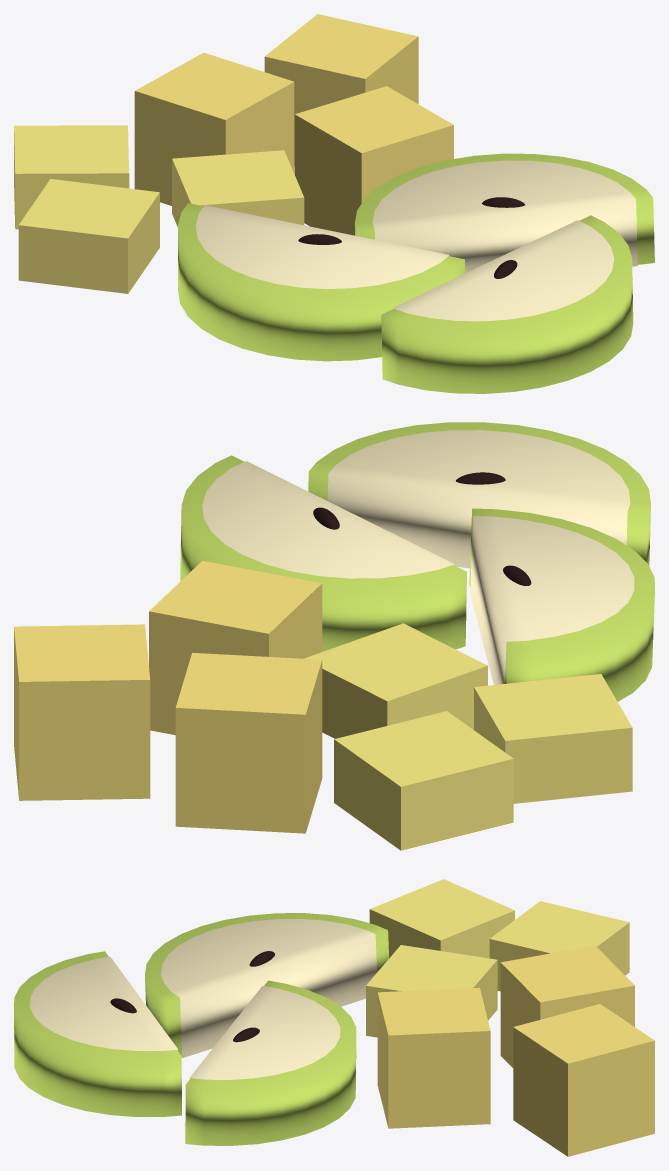
The model's file is cutfruits1.fbx.
3 renders of one model, top to bottom at view 1: azimuth 30°, elevation 25°; view 2: azimuth 150°, elevation 25°; view 3: azimuth 270°, elevation 25°, orthographic. The views are drawn at different scales.
Visible parts, largest first — view 1: Cube.017, Cube.019, Cylinder.018, Cylinder.036, Cylinder.037, Cylinder.038, Cylinder.019, Cylinder.035; view 2: Cube.017, Cube.019, Cylinder.019, Cylinder.038, Cylinder.036, Cylinder.035, Cylinder.037, Cylinder.018; view 3: Cube.017, Cube.019, Cylinder.038, Cylinder.035, Cylinder.018, Cylinder.036, Cylinder.019, Cylinder.037.
Part boxes in pixels (left/top/right/bottom): Cube.017: left=134, top=14, right=453, bottom=235; Cube.019: left=14, top=125, right=304, bottom=293; Cylinder.018: left=381, top=215, right=633, bottom=393; Cylinder.036: left=372, top=160, right=637, bottom=273; Cylinder.037: left=178, top=203, right=465, bottom=361; Cylinder.038: left=195, top=205, right=449, bottom=288; Cylinder.019: left=393, top=220, right=614, bottom=321; Cylinder.035: left=354, top=153, right=654, bottom=264; Cube.017: left=14, top=560, right=322, bottom=833; Cube.019: left=304, top=623, right=632, bottom=850; Cylinder.019: left=327, top=430, right=630, bottom=568; Cylinder.038: left=470, top=516, right=634, bottom=684; Cylinder.036: left=202, top=461, right=453, bottom=578; Cylinder.035: left=180, top=455, right=466, bottom=651; Cylinder.037: left=469, top=508, right=654, bottom=701; Cylinder.018: left=308, top=422, right=650, bottom=565; Cube.017: left=377, top=945, right=654, bottom=1156; Cube.019: left=366, top=879, right=629, bottom=1037; Cylinder.038: left=161, top=919, right=376, bottom=1057; Cylinder.035: left=185, top=980, right=356, bottom=1145; Cylinder.018: left=14, top=951, right=181, bottom=1116; Cylinder.036: left=189, top=986, right=340, bottom=1079; Cylinder.019: left=30, top=956, right=177, bottom=1050; Cylinder.037: left=145, top=913, right=388, bottom=1056.
Size of the model in its own units: 214 by 42.5 by 265.
